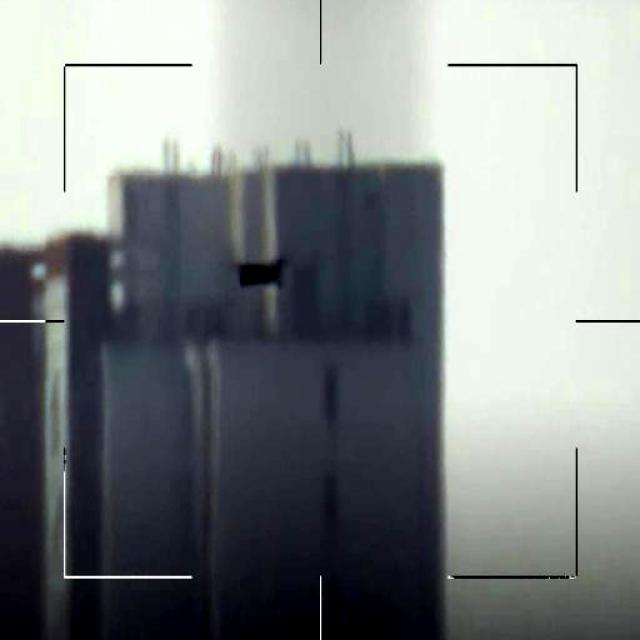bird: (240, 259, 295, 298)
